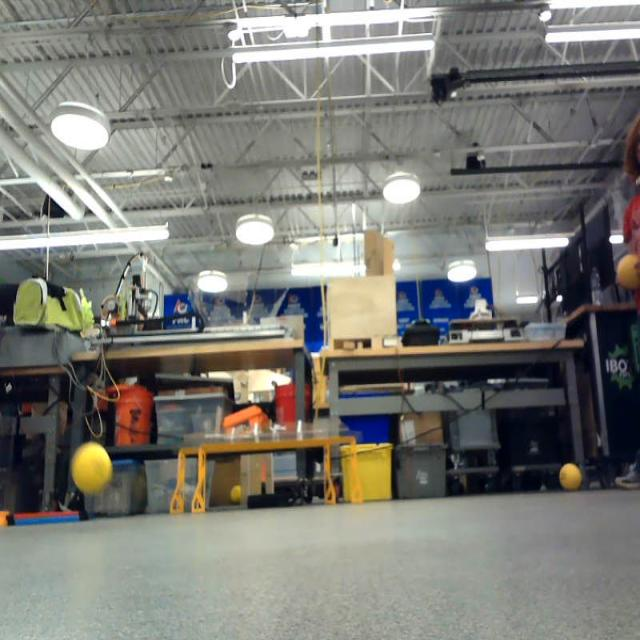Fuel: (73, 443, 111, 493), (617, 254, 640, 289), (560, 464, 581, 491), (231, 485, 243, 504)
